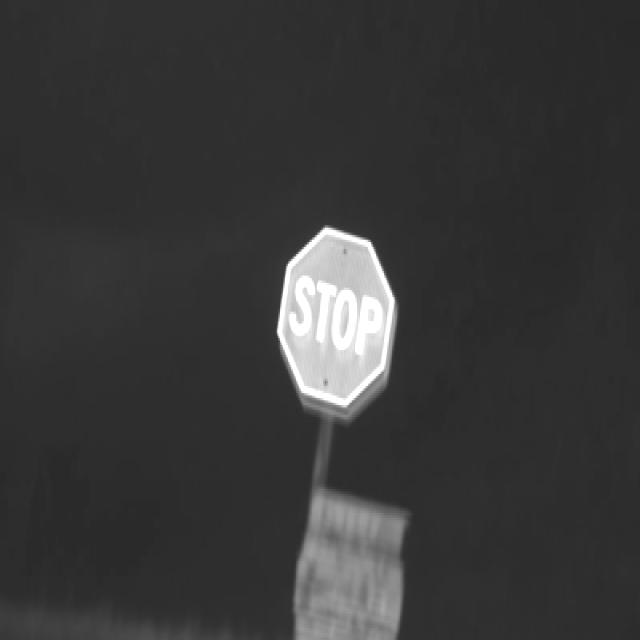Stop-signs: (277, 228, 395, 407)
